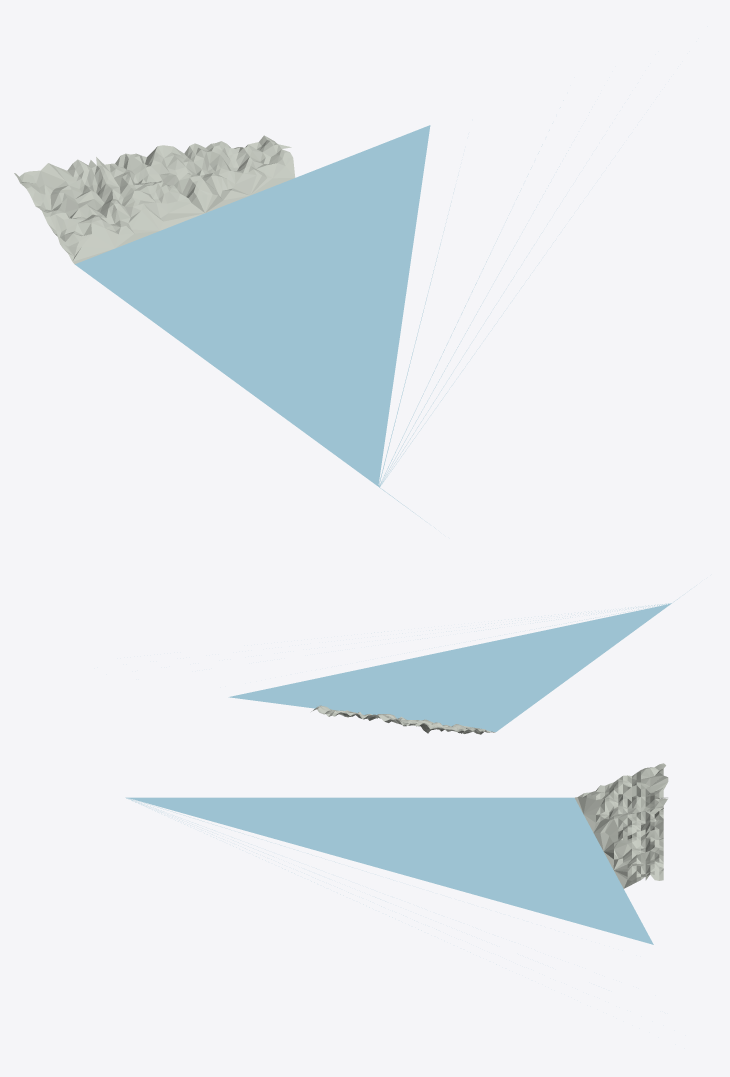
Rendered from terrain-context-D-x3-z1.glb.
3 views of the same model, one above another, from view 1: azimuth 30°, elevation 25°; view 2: azimuth 150°, elevation 25°; view 3: azimuth 270°, elevation 25° (orthographic). The views are drawn at different scales.
Visible parts, largest first — view 1: D-x3-z1; view 2: D-x3-z1; view 3: D-x3-z1.
Part boxes in pixels (bbox=[...]): D-x3-z1: bbox=[14, 100, 589, 528]; D-x3-z1: bbox=[228, 585, 696, 734]; D-x3-z1: bbox=[125, 763, 668, 964].
Size of the model in its own units: 69.28 by 4.2 by 77.51.
